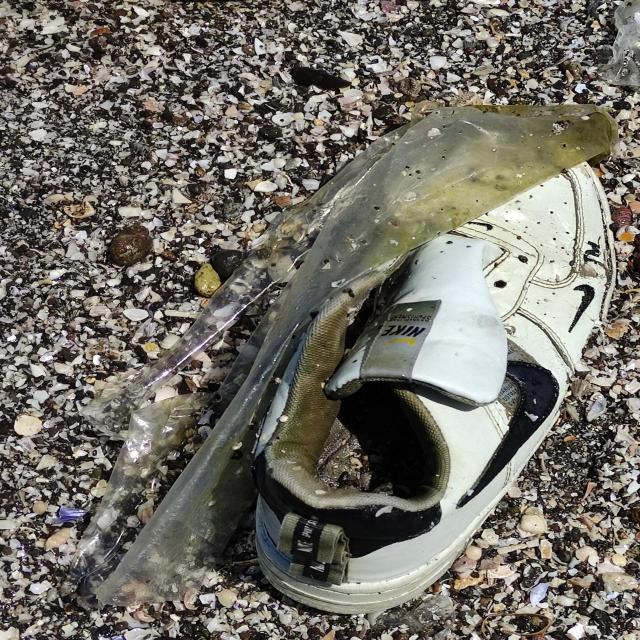rubber_waste: (253, 139, 617, 622)
